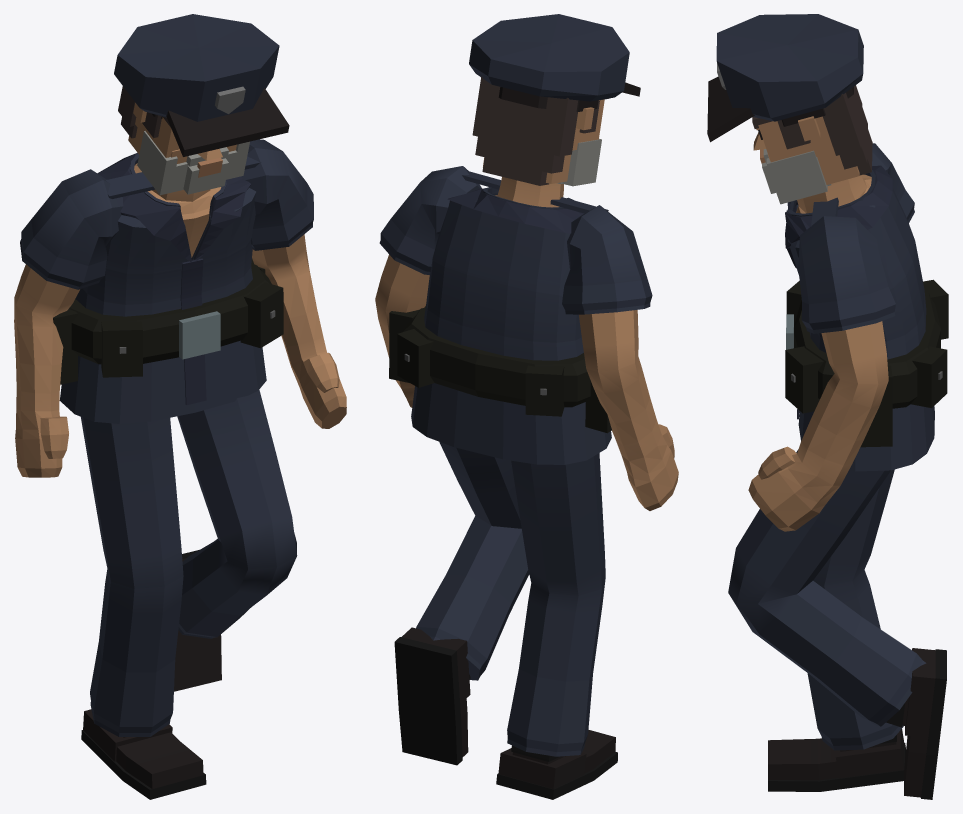
The model's file is police-officer-1cc379__walk6.glb.
The picture shows the model from 3 angles, left to right: view 1: azimuth 30°, elevation 25°; view 2: azimuth 150°, elevation 25°; view 3: azimuth 270°, elevation 25°; orthographic projection. The views are drawn at different scales.
Visible parts, largest first — view 1: police-officer-1cc379__walk6; view 2: police-officer-1cc379__walk6; view 3: police-officer-1cc379__walk6.
Part boxes in pixels (x1,y1,x2,y2): police-officer-1cc379__walk6: (14,14,346,799); police-officer-1cc379__walk6: (375,14,678,799); police-officer-1cc379__walk6: (707,14,948,799).
Bounding box in the file's own units: 0.7201 × 1.73 × 0.5035.
